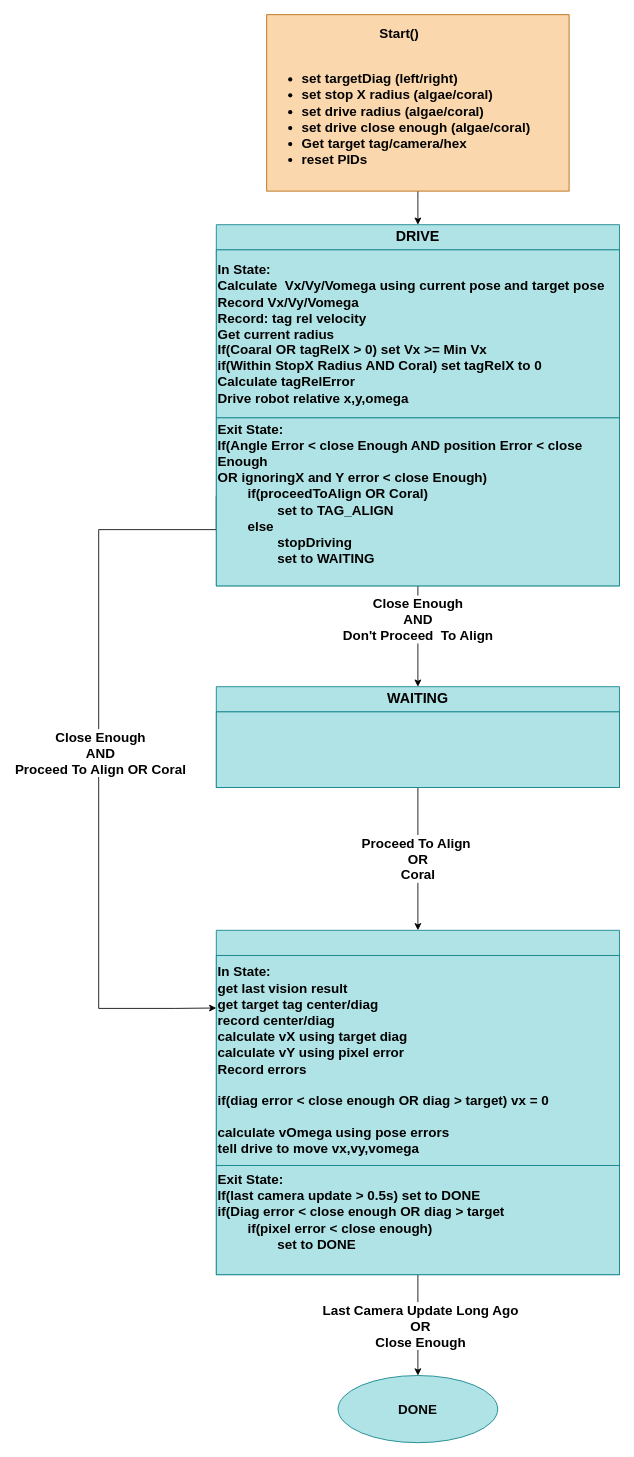
Some shapes in this 634 by 1457 pixel diagram are drawn without their labels. The box of each missing label's shape, as (x1, y1, x2, y2) in pixels:
Exit State: f(proceedToAlign || Coral) set to TAG_ALIGN: (215, 711, 620, 788)
TAG_ALIGN: (215, 929, 620, 1275)
